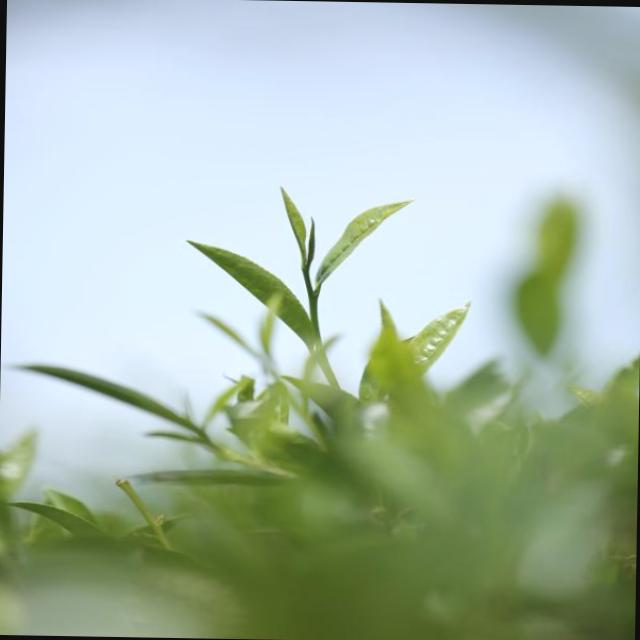Stem: (307, 291, 316, 304)
